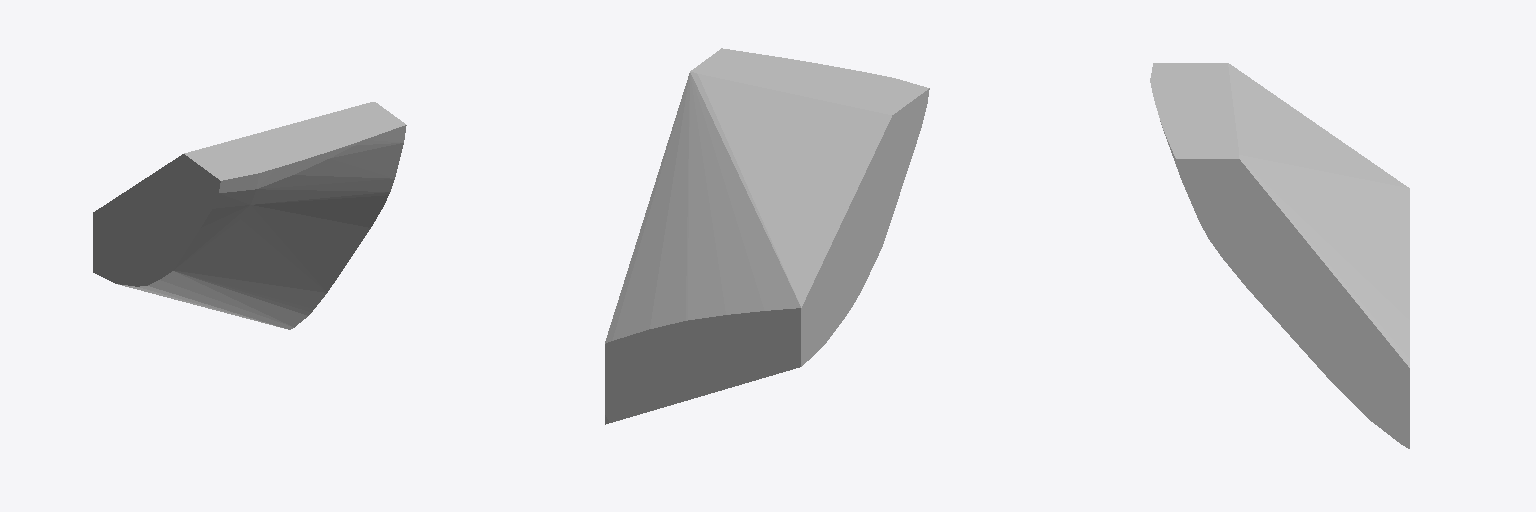
File: phantom-elastrat_collision_636.obj
3 views of the same model, side by side, from view 1: azimuth 30°, elevation 25°; view 2: azimuth 150°, elevation 25°; view 3: azimuth 270°, elevation 25° (orthographic).
Bounding box in the file's own units: 0.006 × 0.0084 × 0.0068.